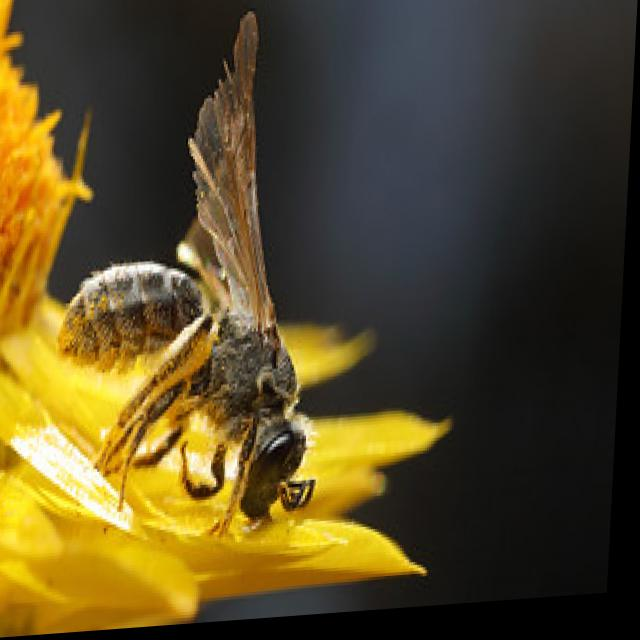Abeille: (53, 0, 367, 556)
